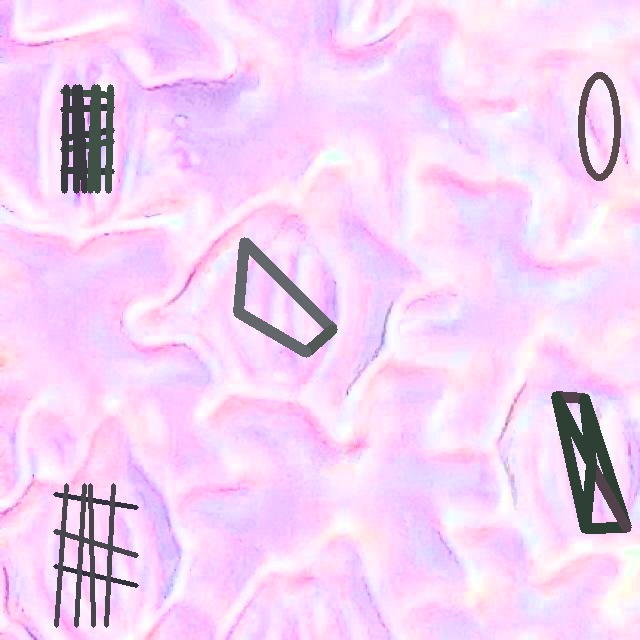open: (234, 238, 337, 357), (53, 483, 138, 627), (552, 394, 630, 533), (60, 84, 114, 193), (577, 71, 621, 182)
